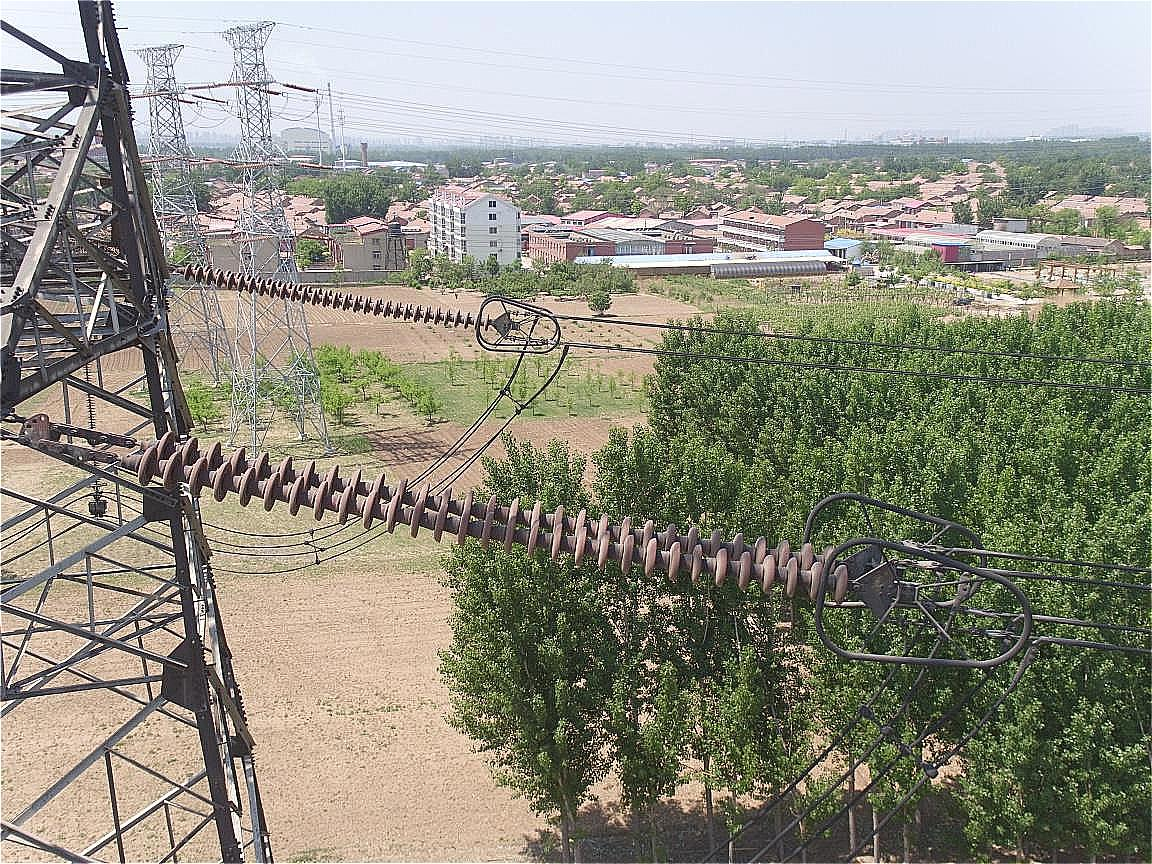insultor1: (116, 424, 863, 628), (154, 253, 497, 337)
